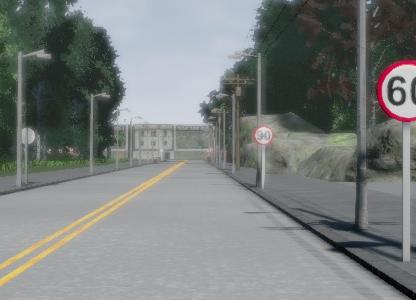Speed_60: (389, 33, 416, 117)
